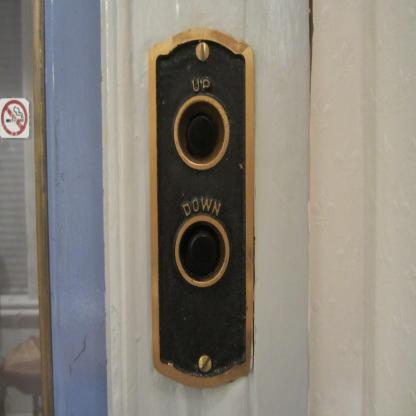empty: (172, 93, 231, 173), (173, 212, 230, 288)
